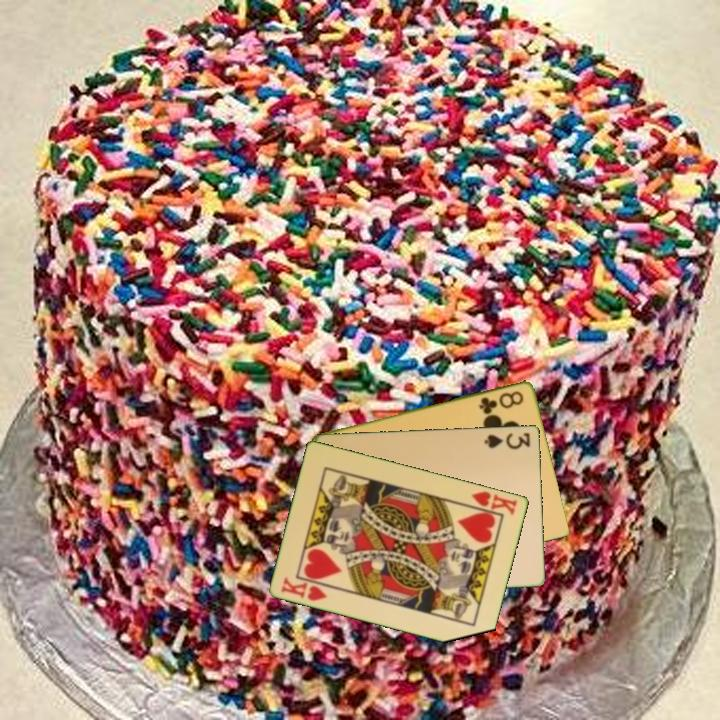3s: (481, 429, 533, 452)
8c: (475, 387, 527, 416)
Kh: (463, 487, 520, 518), (278, 573, 331, 604)
